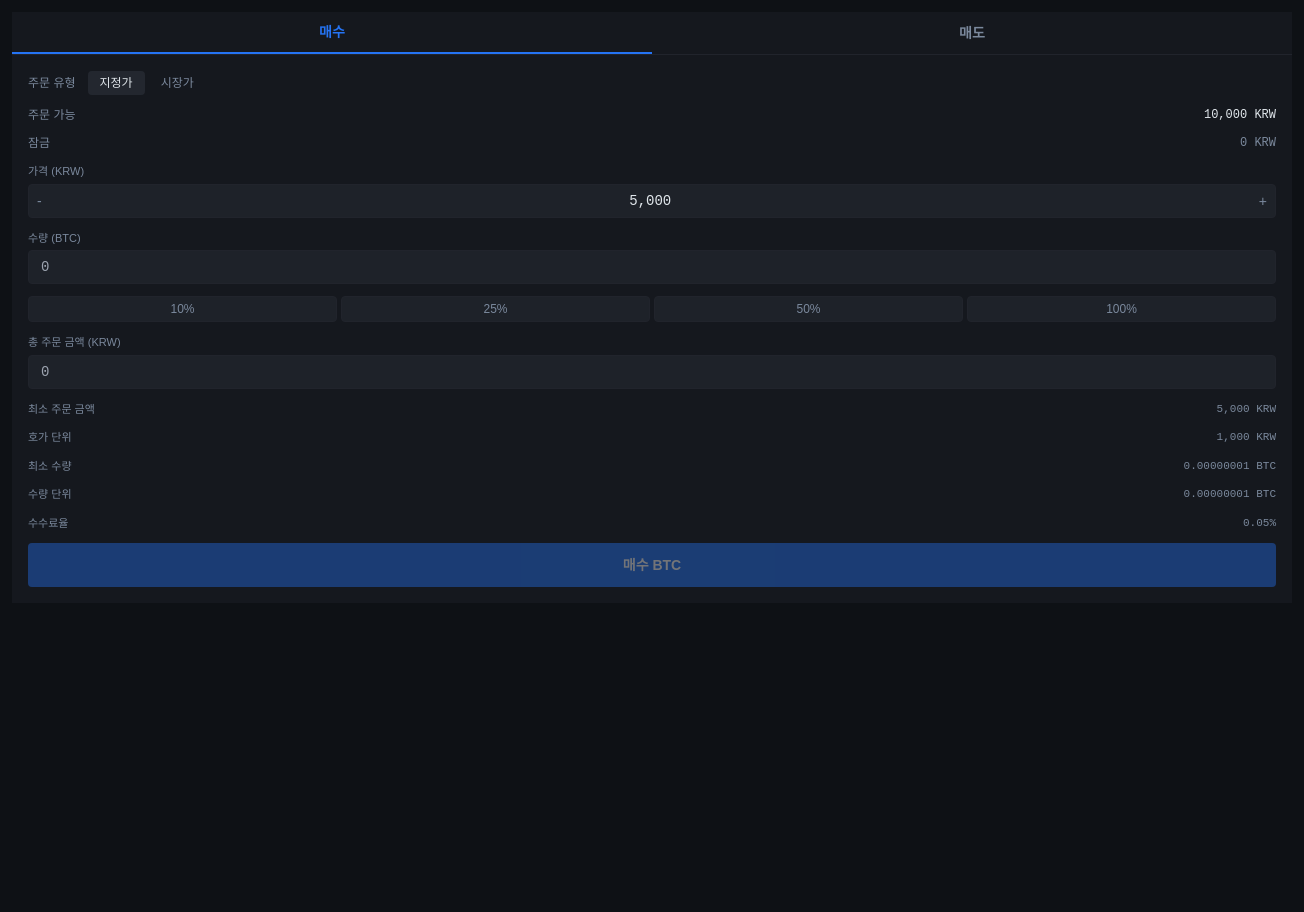
Test: OrderForm idempotency key lifecycle › does not show a 202 PENDING response as a failure
Type "1" into the field with test id "order-amount".
click(652, 267); type("1")  # box x1=28 y1=250 x2=1276 y2=284
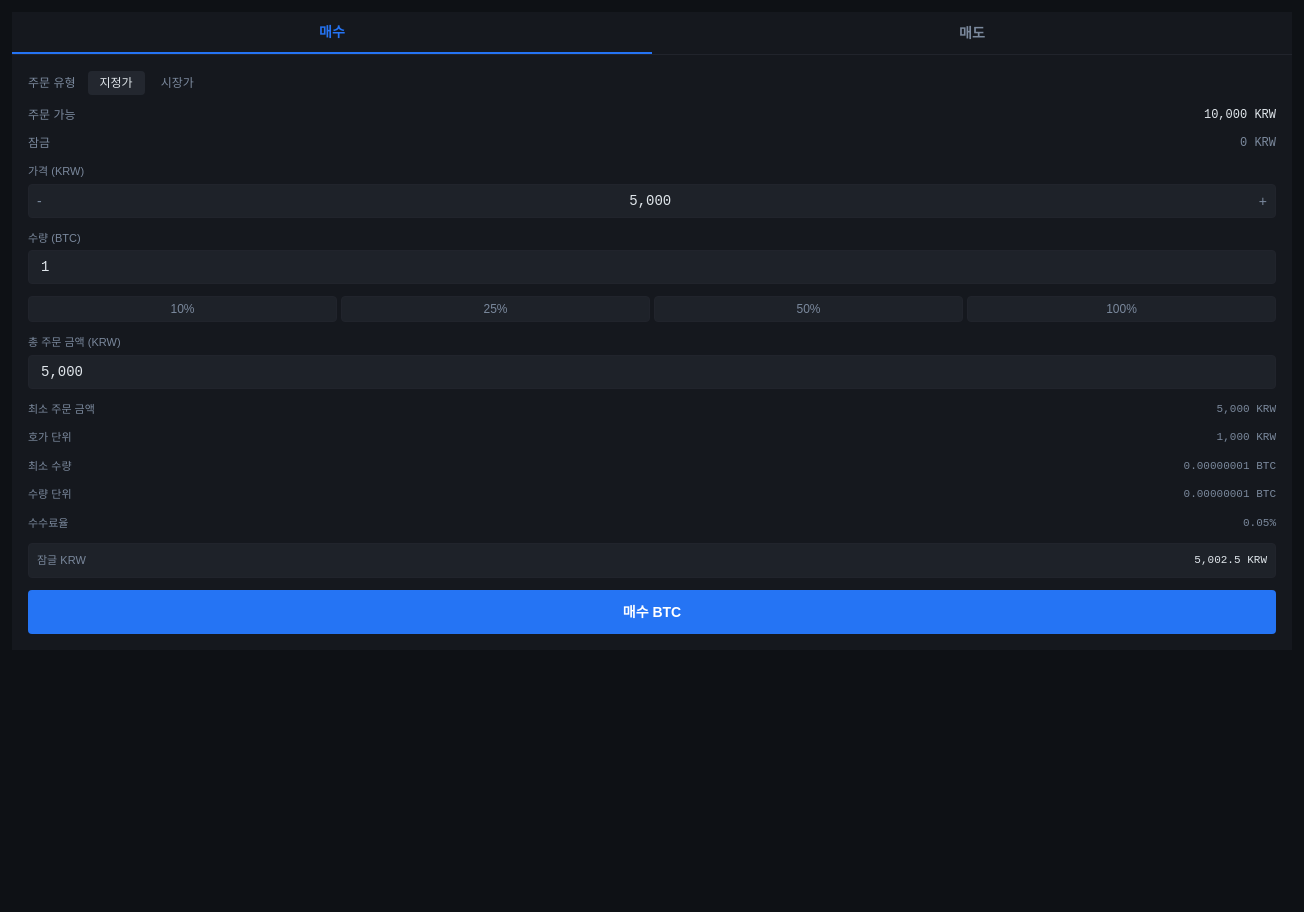
Click the button with test id "submit-order".
click(652, 612)  # box x1=28 y1=590 x2=1276 y2=634
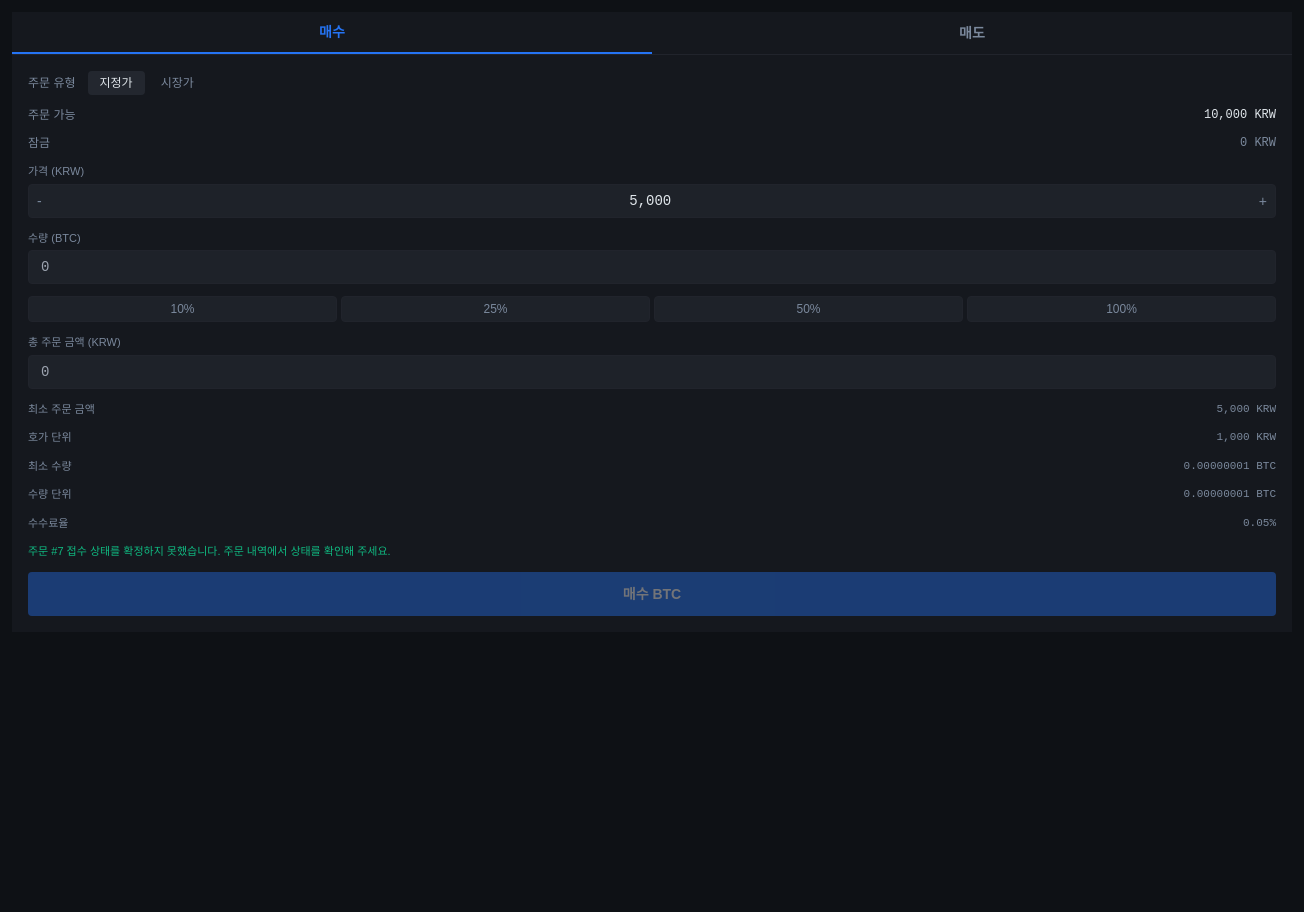
expect the text with test id "order-message" shows "주문 #7": met, box x1=28 y1=545 x2=391 y2=557
expect the text with test id "order-message" shows "상태를 확인": met, box x1=28 y1=545 x2=391 y2=557
